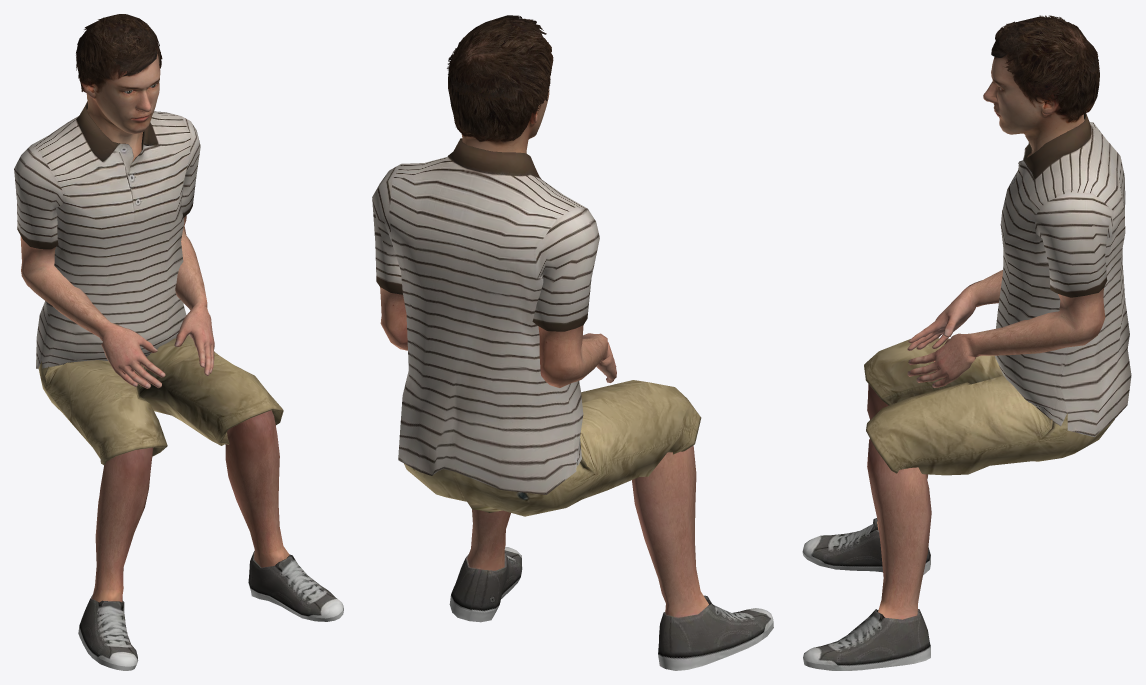
The model's file is actor-seated.glb.
3 views of the same model, side by side, from view 1: azimuth 30°, elevation 25°; view 2: azimuth 150°, elevation 25°; view 3: azimuth 270°, elevation 25° (orthographic). The views are drawn at different scales.
Parts seen in each view (by area): view 1: actor-mesh; view 2: actor-mesh; view 3: actor-mesh.
Boxes of the visible parts, x1,y1,x2,y2 form: actor-mesh: [14, 14, 343, 670]; actor-mesh: [372, 15, 773, 670]; actor-mesh: [802, 15, 1131, 670].
Bounding box in the file's own units: 0.6578 × 1.46 × 0.7306.
Materials: 3 (3 with a texture image).
